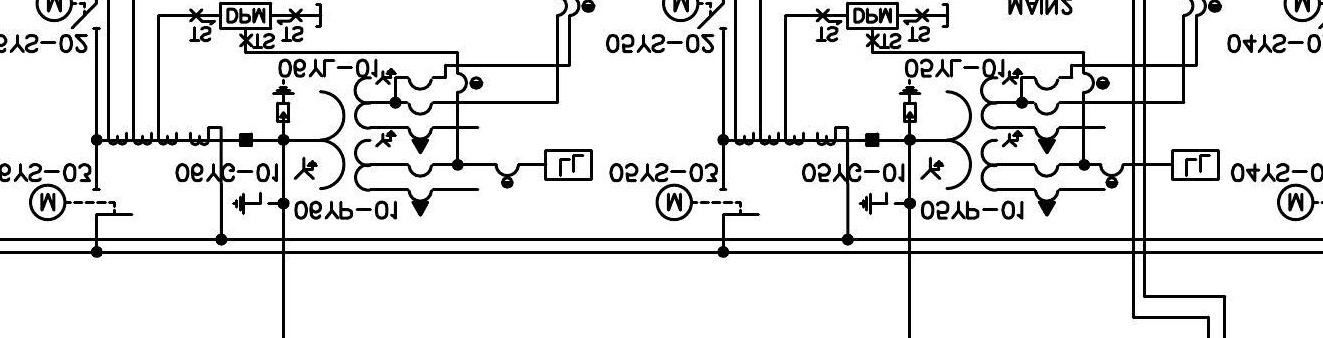115_1way_ds_w_motor: (27, 182, 134, 221), (654, 182, 761, 221)
115_gs: (231, 191, 272, 216), (857, 191, 898, 216)
115_la: (271, 78, 296, 123), (897, 78, 922, 123)
115_vt_3p: (293, 67, 434, 218), (919, 67, 1060, 218)
DPM: (845, 1, 898, 30), (219, 2, 272, 30)
LL: (1170, 148, 1220, 182), (544, 149, 594, 182)
